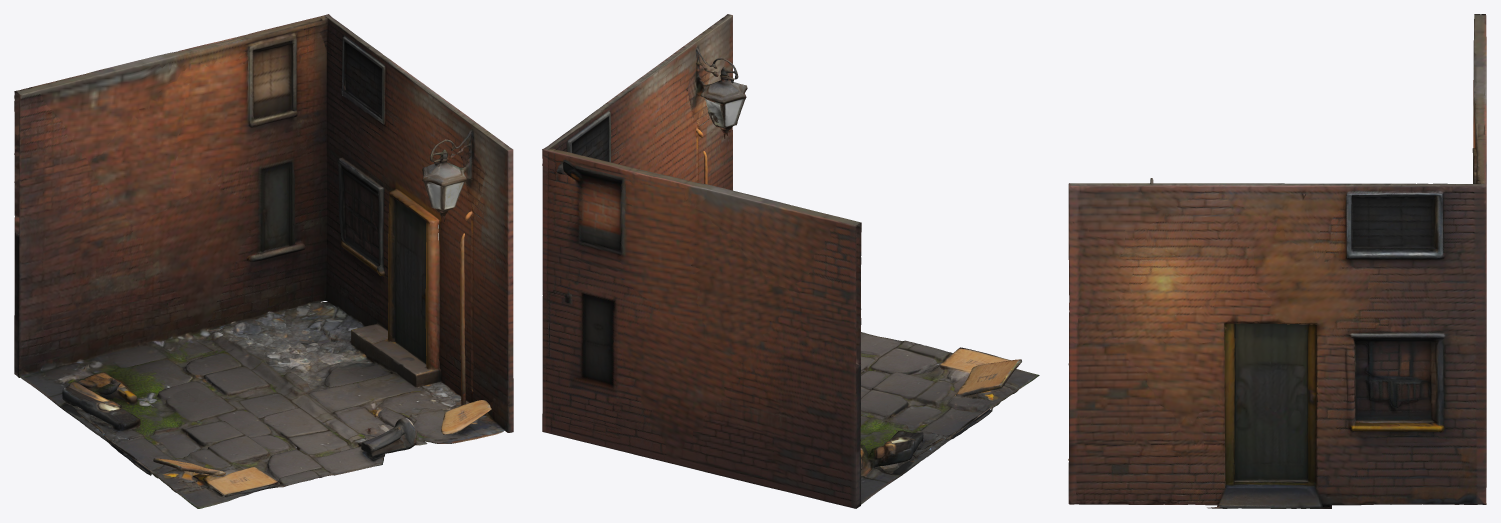
File: corner.glb
3 renders of one model, left to right at view 1: azimuth 30°, elevation 25°; view 2: azimuth 150°, elevation 25°; view 3: azimuth 270°, elevation 25°, orthographic. The views are drawn at different scales.
Size of the model in its own units: 2 by 1.72 by 2.
Materials: 1 (1 with a texture image).
